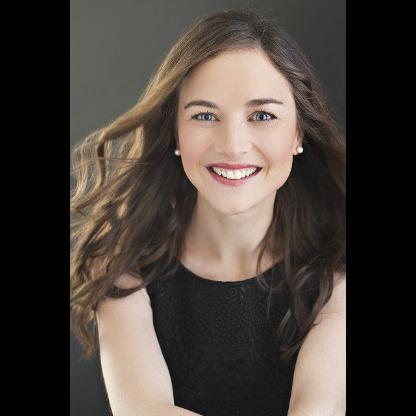Female: (174, 46, 302, 214)
